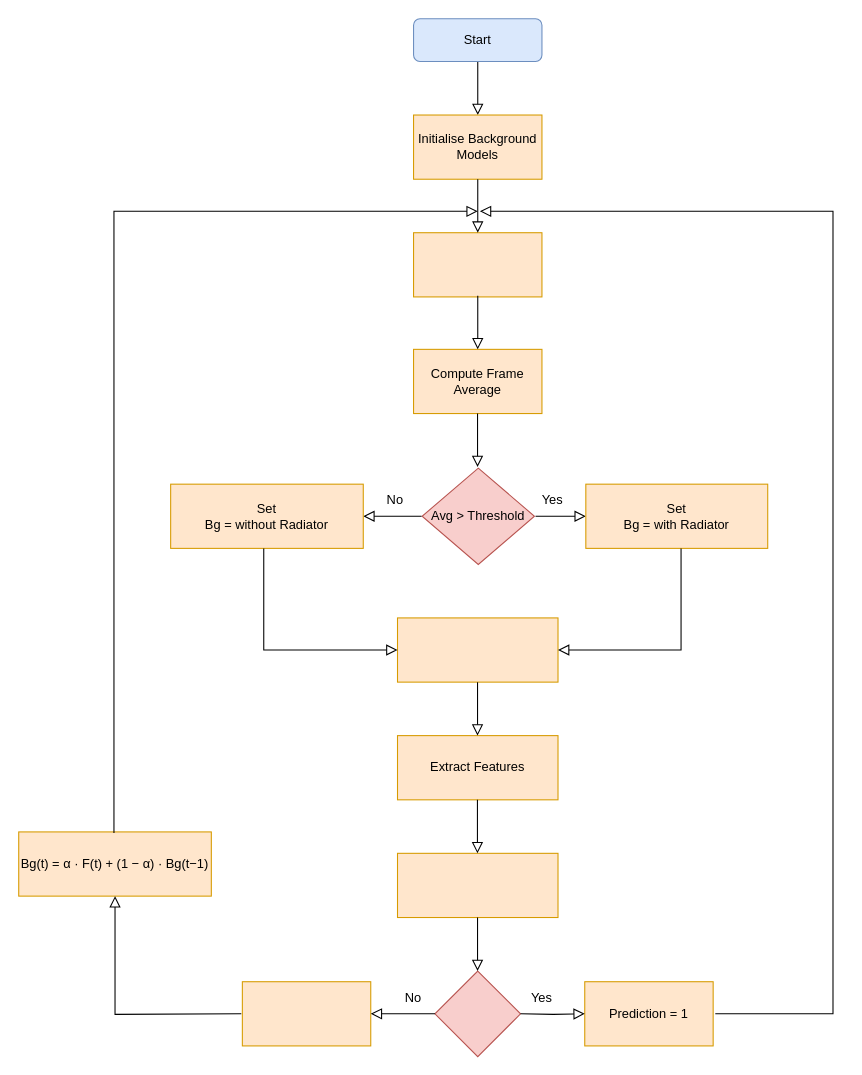
Some shapes in this 862 by 1075 pixel diagram are drawn without their labels. The shapes that lost their labels are listed below. From the top down, each one's centre as x and y in pixels, then its label:
point 477,264: Read Sensor Data
point 477,649: Subtract Sensor Data - Background
point 477,885: Run Model Inference
point 306,1013: Prediction = 0
point 477,1013: Human
